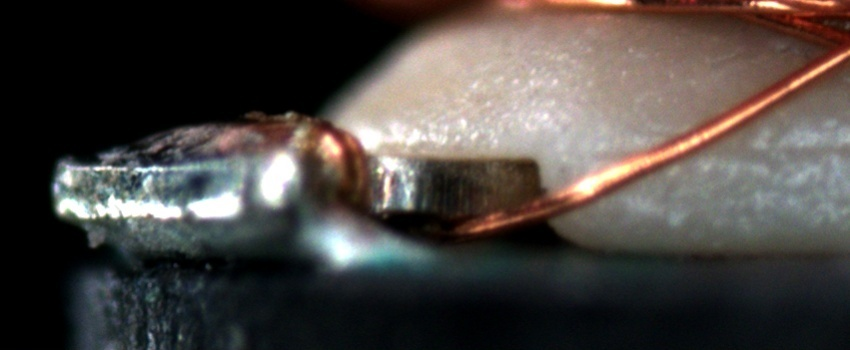CL: (806, 13, 849, 79)
DL: (590, 126, 849, 184)
TE: (317, 108, 372, 206)
